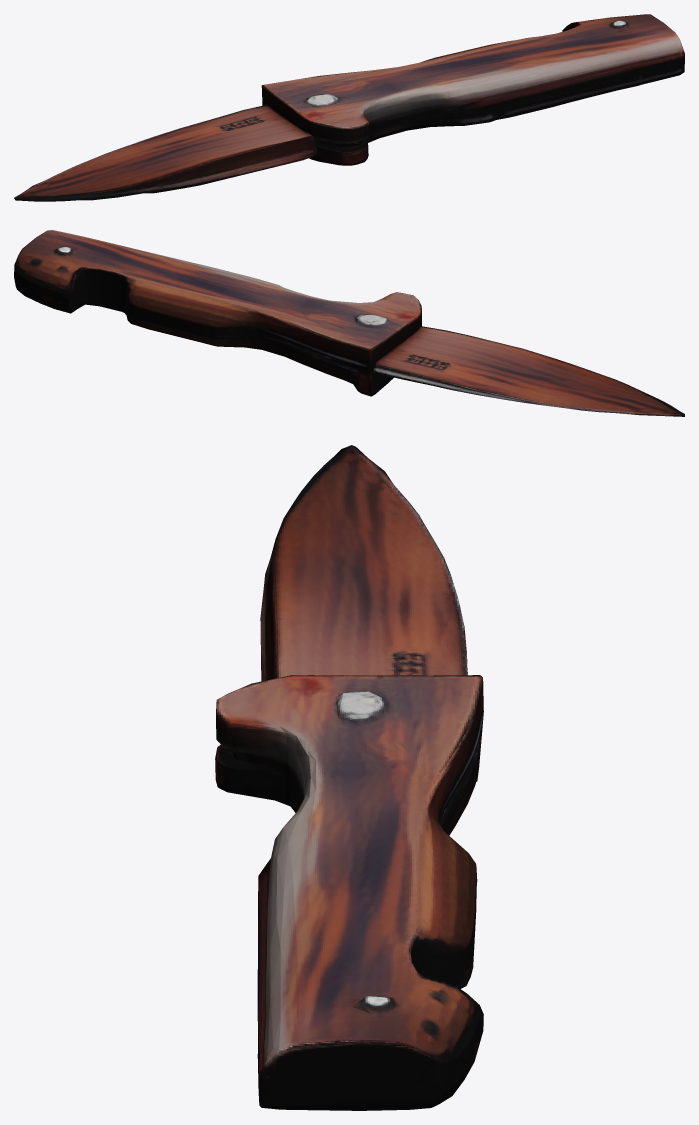
The model's file is wooden-pocket-knife-handle-futuristic.jpeg.glb.
3 views of the same model, one above another, from view 1: azimuth 30°, elevation 25°; view 2: azimuth 150°, elevation 25°; view 3: azimuth 270°, elevation 25° (orthographic). The views are drawn at different scales.
Visible parts, largest first — view 1: world; view 2: world; view 3: world.
Part boxes in pixels (x1,y1,x2,y2): world: [14, 14, 684, 201]; world: [14, 230, 684, 416]; world: [215, 445, 483, 1110].
Size of the model in its own units: 1 by 0.074 by 0.1795.
1 material, 1 textured.
